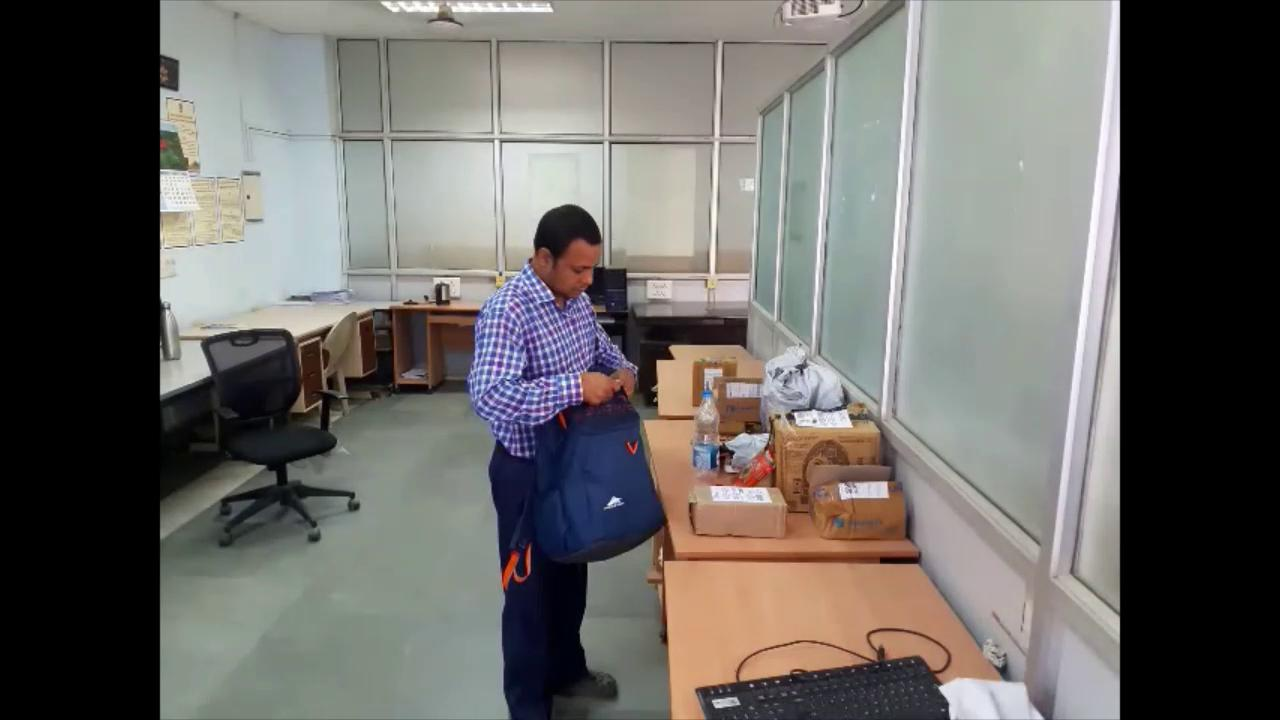shoplifting: (464, 199, 670, 720)
